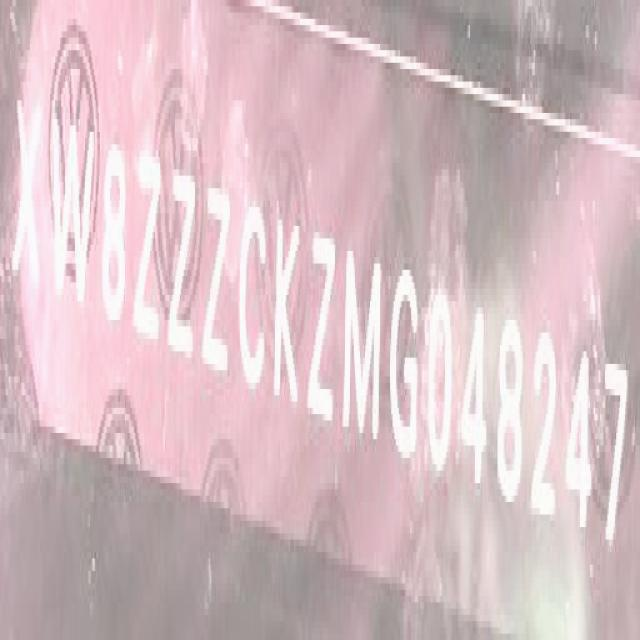0: (425, 278, 454, 479)
2: (530, 328, 559, 524)
4: (460, 306, 490, 490), (566, 341, 593, 535)
7: (602, 356, 631, 550)
8: (498, 311, 526, 506), (103, 140, 128, 332)
C: (238, 195, 269, 397)
G: (390, 258, 423, 467)
K: (274, 209, 301, 413)
M: (344, 243, 384, 448)
W: (51, 119, 95, 298)
X: (12, 95, 45, 288)
Z: (308, 223, 336, 434), (170, 172, 199, 370), (134, 149, 163, 346), (204, 182, 232, 385)
